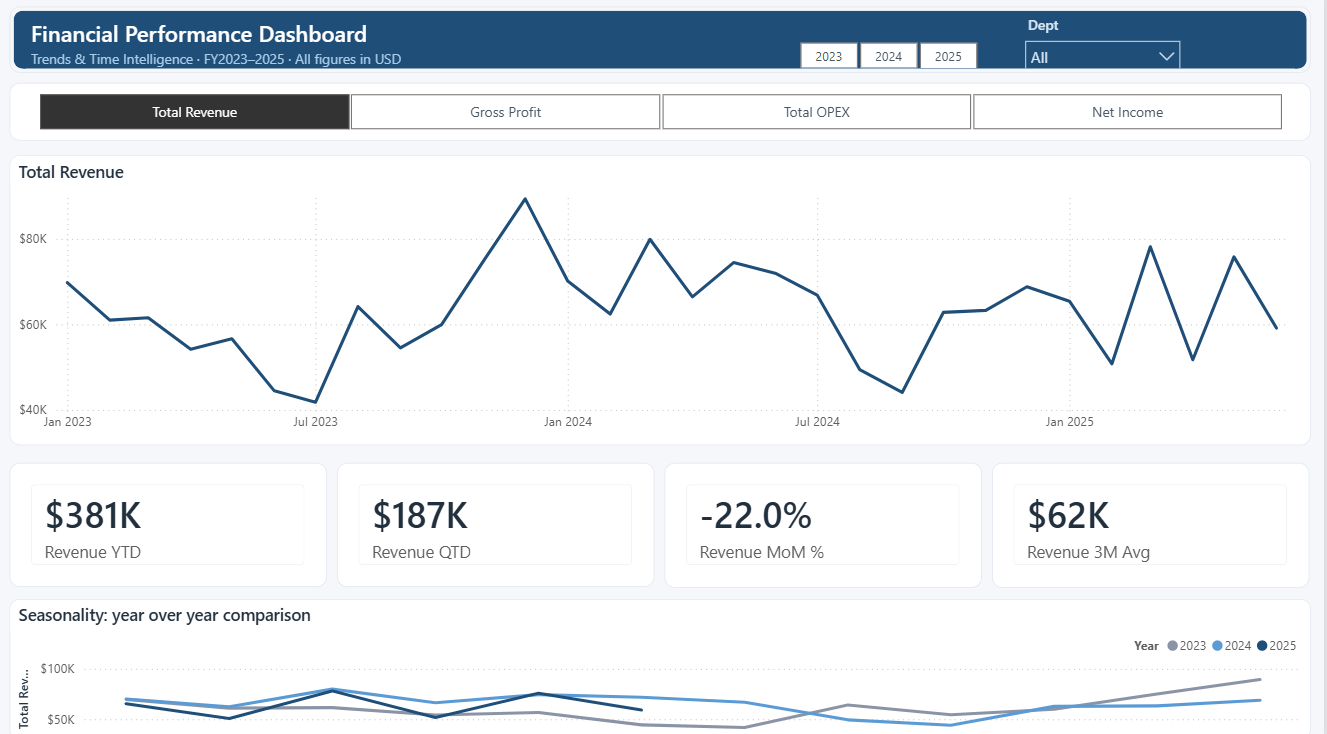

The page's visual inventory and layout, read from the dashboard file:
{"tool":"powerbi","page":{"name":"Trends","canvas":[1280,720],"ordinal":2},"visuals":[{"type":"shape","box":[12,12,1256,64],"z":0},{"type":"textbox","box":[28,18,500,44],"z":1000},{"type":"slicer","fields":{"Values":["Dim_Date.Year"]},"box":[749.2,39.8,220.9,31.6],"z":2000},{"type":"textbox","box":[28,48,560,30],"z":3000},{"type":"slicer","fields":{"Values":["Dim_Department.Dept"]},"box":[982.5,15.1,170.2,56.3],"z":4000},{"type":"slicer","fields":{"Values":["Metric Selector.Metric Selector"]},"box":[12,86,1256,56],"z":5000},{"type":"lineChart","fields":{"Y":["Fact_GL.Total Revenue"],"Category":["Dim_Date.MonthStart"]},"box":[12,156,1256,280],"z":6000},{"type":"cardVisual","fields":{"Data":["Fact_GL.Revenue YTD"]},"box":[12,452,306,120],"z":7000},{"type":"cardVisual","fields":{"Data":["Fact_GL.Revenue QTD"]},"box":[328,452.4,306.4,120],"z":8000},{"type":"cardVisual","fields":{"Data":["Fact_GL.Revenue MoM %"]},"box":[644,452,306.3,120.5],"z":9000},{"type":"cardVisual","fields":{"Data":["Fact_GL.Revenue 3M Avg"]},"box":[960,451.9,306.3,120.5],"z":10000},{"type":"lineChart","title":"Seasonality: year over year comparison","fields":{"Y":["Fact_GL.Total Revenue"],"Category":["Dim_Date.MonthName"],"Series":["Dim_Date.Year"]},"box":[12,584,1256,136],"z":11000}]}

Visuals, with their boxes in screenshot pixels (x1, y1, x2, y2), scaled from the page's 1280x720 canvas onto the 1327x734 screenshot:
shape: bbox(12, 12, 1315, 77)
textbox: bbox(29, 18, 547, 63)
slicer - Dim_Date.Year: bbox(777, 41, 1006, 73)
textbox: bbox(29, 49, 610, 80)
slicer - Dim_Department.Dept: bbox(1019, 15, 1195, 73)
slicer - Metric Selector.Metric Selector: bbox(12, 88, 1315, 145)
lineChart - Fact_GL.Total Revenue x Dim_Date.MonthStart: bbox(12, 159, 1315, 444)
cardVisual - Fact_GL.Revenue YTD: bbox(12, 461, 330, 583)
cardVisual - Fact_GL.Revenue QTD: bbox(340, 461, 658, 584)
cardVisual - Fact_GL.Revenue MoM %: bbox(668, 461, 985, 584)
cardVisual - Fact_GL.Revenue 3M Avg: bbox(995, 461, 1313, 584)
"Seasonality: year over year comparison" lineChart: bbox(12, 595, 1315, 733)
